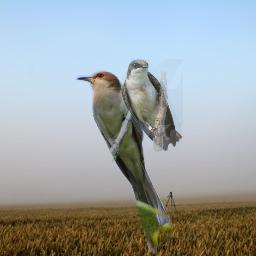Cuckoo: (76, 70, 173, 254)
Swallow: (121, 59, 183, 152)
